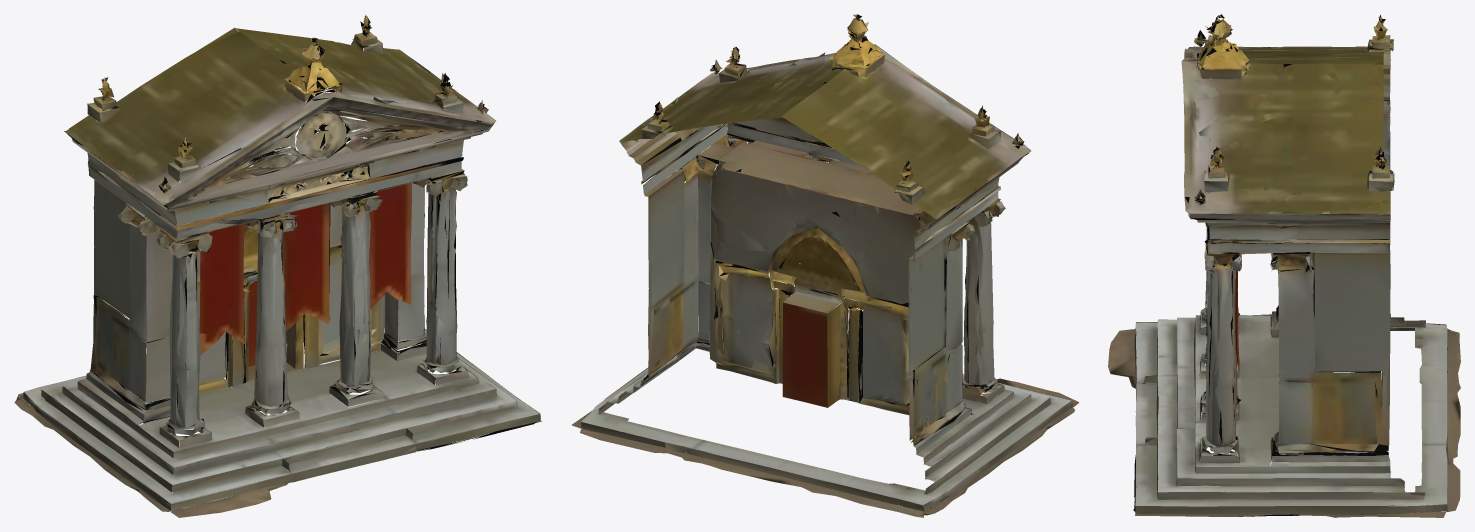
Rendered from town_bank.glb.
3 renders of one model, left to right at view 1: azimuth 30°, elevation 25°; view 2: azimuth 150°, elevation 25°; view 3: azimuth 270°, elevation 25°, orthographic. The views are drawn at different scales.
Visible parts, largest first — view 1: town_bank; view 2: town_bank; view 3: town_bank.
Boxes of the visible parts, <box> form: town_bank: <box>14,14,541,517</box>; town_bank: <box>572,14,1078,517</box>; town_bank: <box>1108,14,1460,517</box>.
Size of the model in its own units: 23.99 by 24.07 by 18.71.
Materials: 1 (1 with a texture image).
